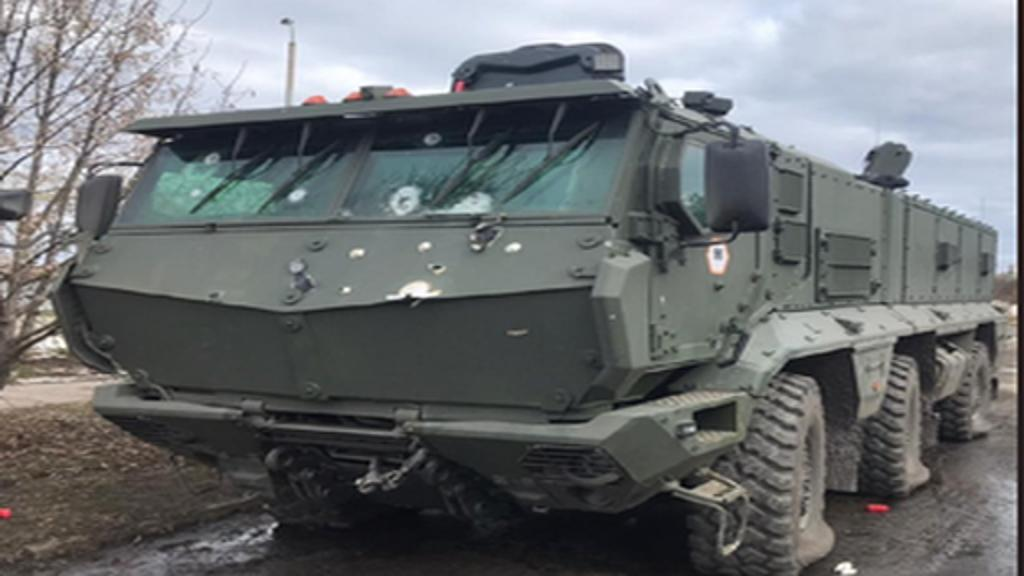TRUCK: (42, 30, 1010, 572)
